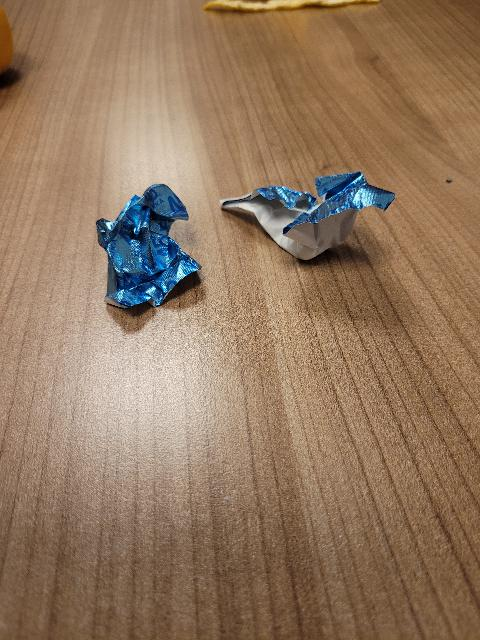Kagit: (98, 181, 210, 329), (217, 174, 396, 266)
